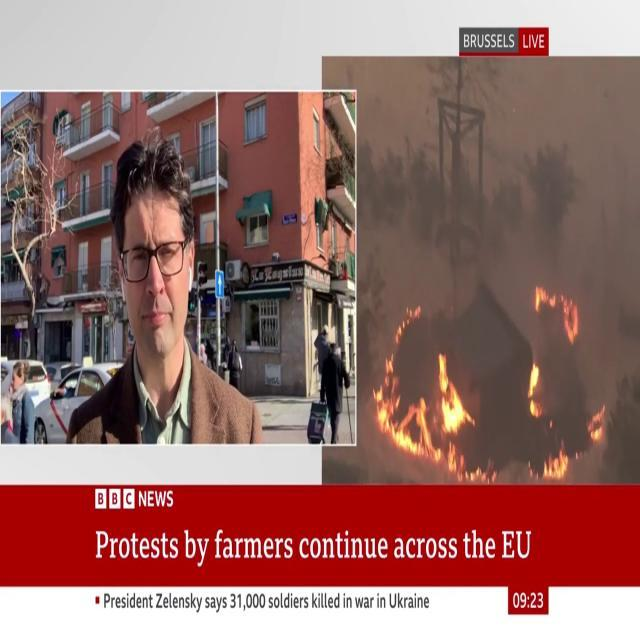Fire: (368, 312, 476, 476), (532, 278, 580, 350)
Smoke: (496, 56, 640, 398)
